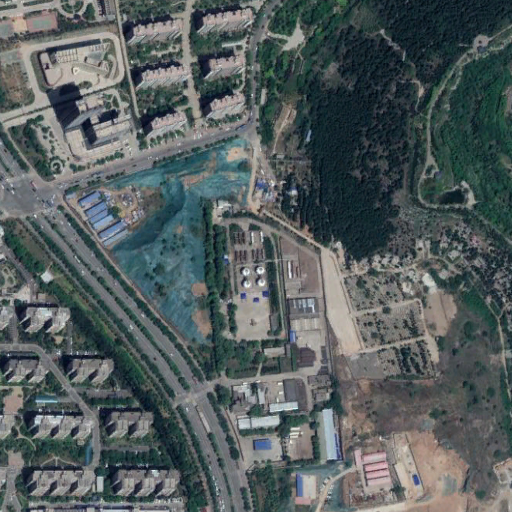cw: (99, 139, 254, 355)
